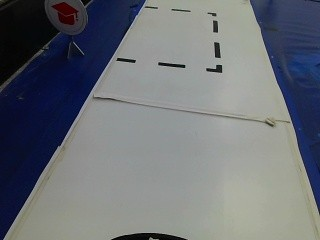school: (42, 0, 88, 36)
